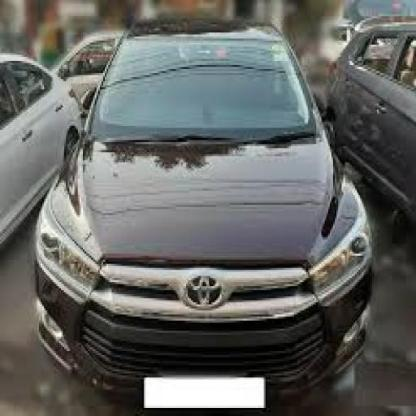car: (25, 9, 381, 416)
